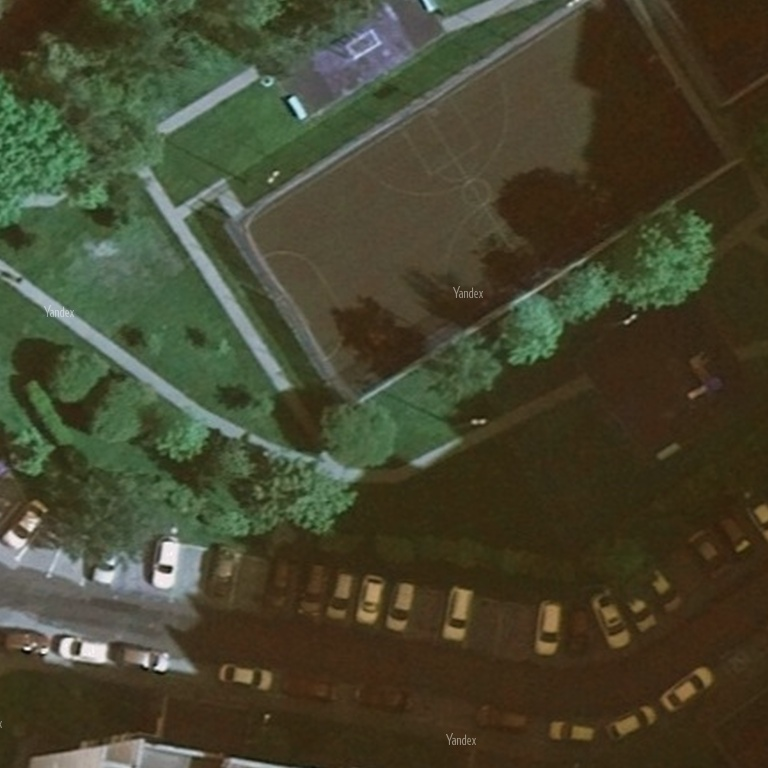basket_court: (334, 39, 656, 350)
